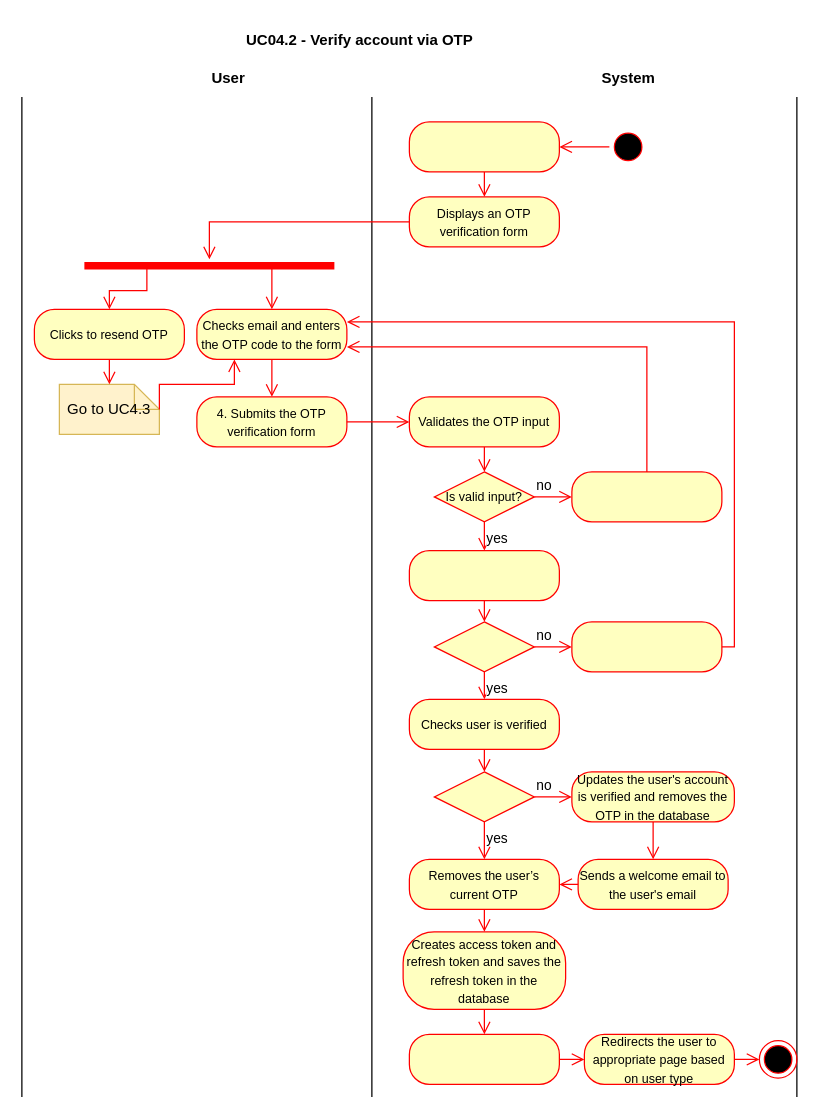
This 820x1120 diagram has some shape labels left out. The centre of each missing label's shape, as x and y in pixels:
"Checks the OTP matches" goes at pixel 483 575.
"Displays detailed error message" goes at pixel 646 496.
"Displays error message" goes at pixel 646 646.
"Is match ?" goes at pixel 483 646.
"Is verified?" goes at pixel 483 796.
"Logs the user in" goes at pixel 483 1058.
"Redirects the user to the OTP verification page" goes at pixel 483 146.
